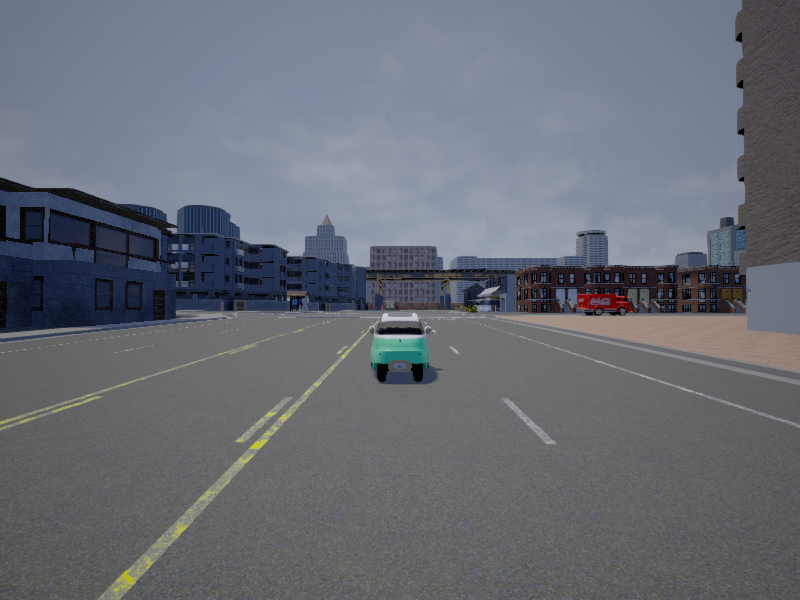Benign: (372, 313, 430, 382), (577, 293, 632, 316)
